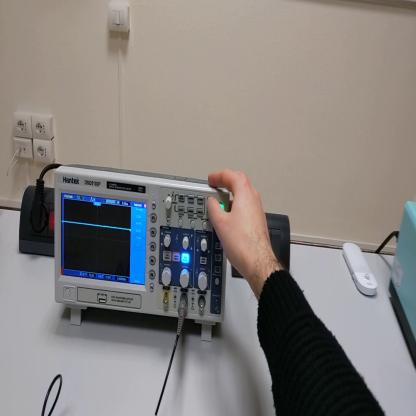hand: (206, 168, 273, 282)
oscilloscope: (55, 165, 230, 342)
socket: (17, 183, 55, 258)
welder station: (388, 198, 416, 371)
